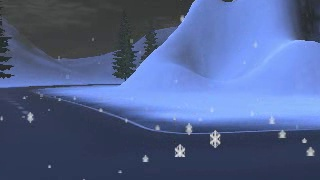Lane: (0, 84, 319, 179)
